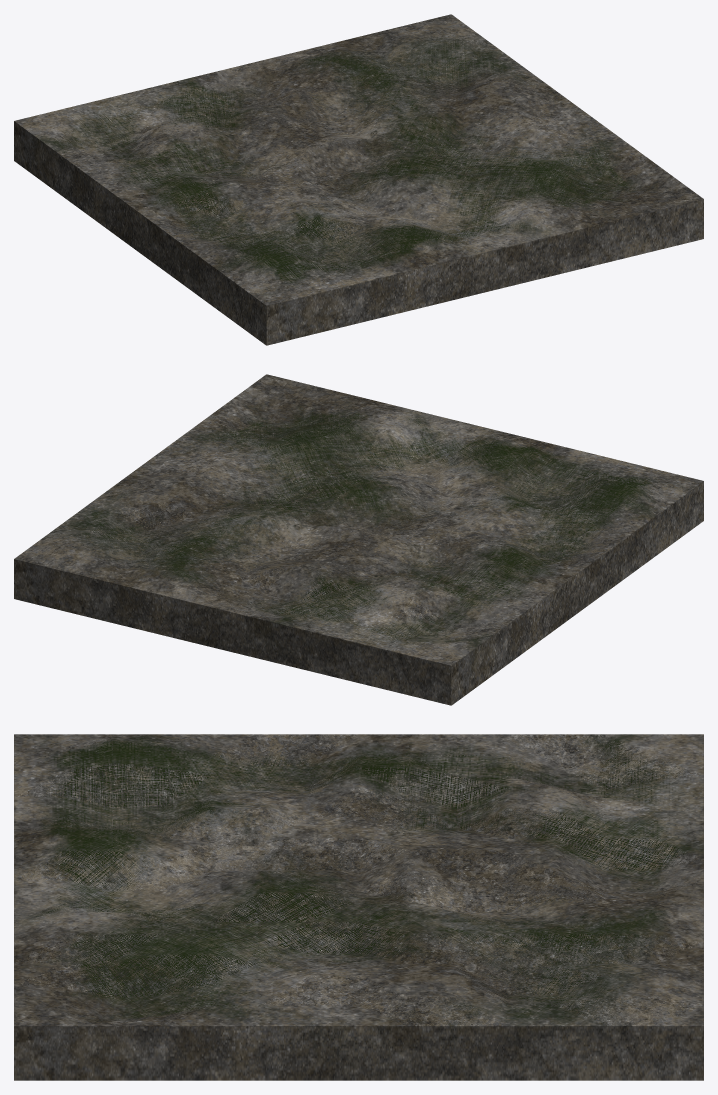
The model's file is underground_floor_standard.fbx.
3 views of the same model, one above another, from view 1: azimuth 30°, elevation 25°; view 2: azimuth 150°, elevation 25°; view 3: azimuth 270°, elevation 25° (orthographic). The views are drawn at different scales.
Parts seen in each view (by area): view 1: underground_floor_standard; view 2: underground_floor_standard; view 3: underground_floor_standard.
Part boxes in pixels (<box>): underground_floor_standard: <box>14,14,703,345</box>; underground_floor_standard: <box>14,374,703,705</box>; underground_floor_standard: <box>14,734,703,1080</box>.
Size of the model in its own units: 330 by 40.33 by 330.
1 material, 1 textured.
